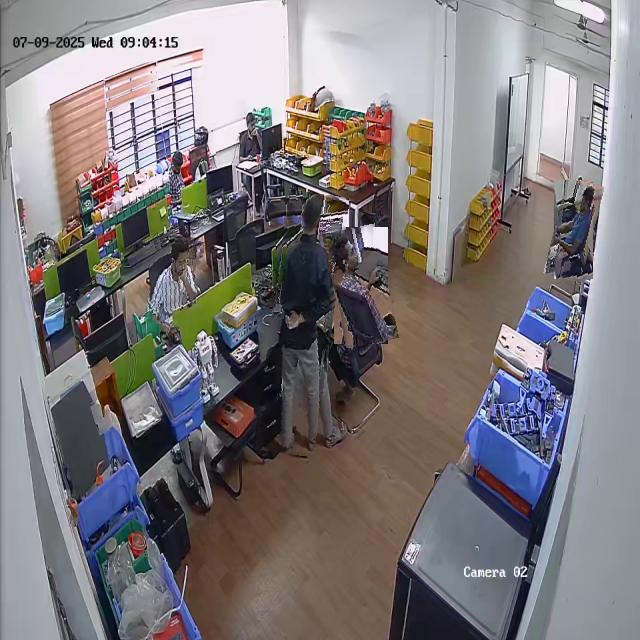person: (262, 191, 341, 456), (328, 225, 394, 346), (148, 236, 202, 328), (549, 179, 598, 280), (164, 150, 190, 204)
